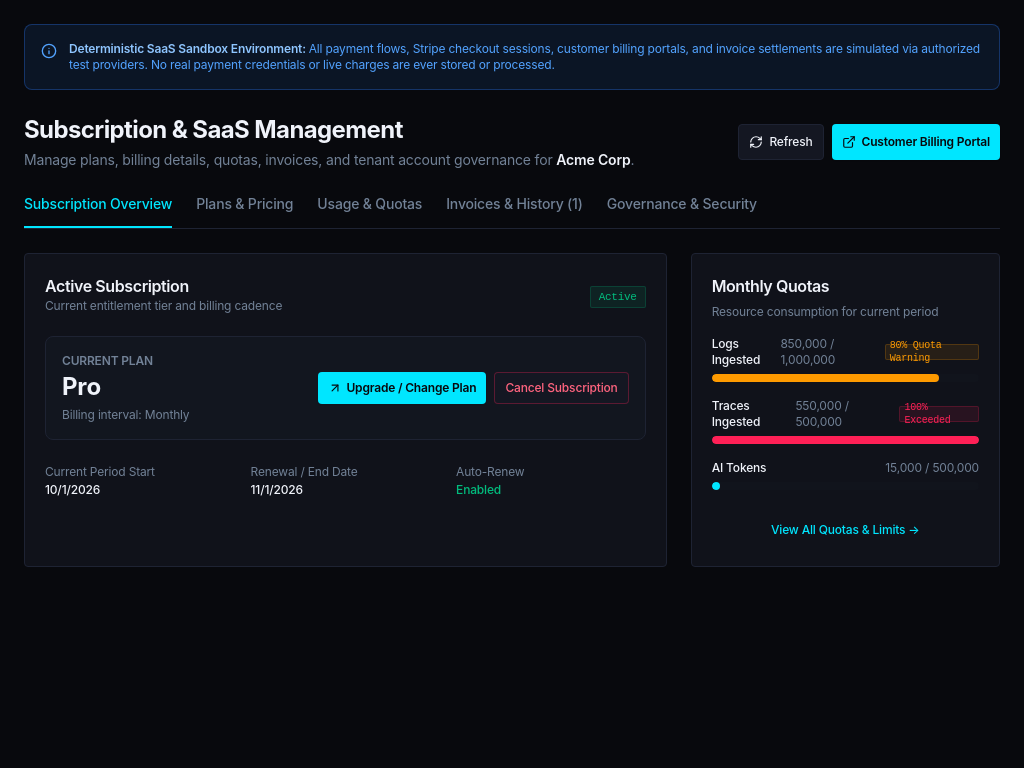
Test: BillingPage SaaS Management › renders canonical plans and allows switching tabs
This screenshot has width=1024, height=768.
Check: the text "Acme Corp" is shown, box top-left (556, 151), bottom-right (630, 168)
Step 1. Click the button "Plans & Pricing" → (245, 211), box top-left (196, 194), bottom-right (293, 228)
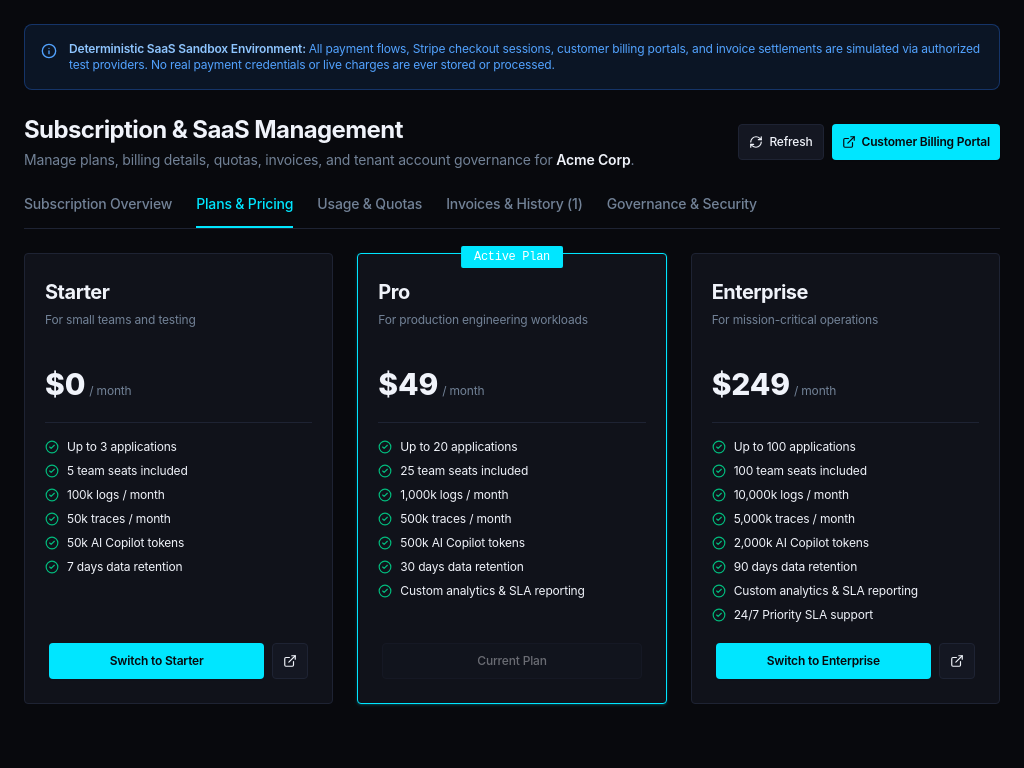
Check: the heading "Starter" is shown, box top-left (45, 280), bottom-right (109, 304)
Check: the heading "Enterprise" is shown, box top-left (712, 280), bottom-right (808, 304)
Check: the text "$249" is shown, box top-left (712, 366), bottom-right (790, 402)
